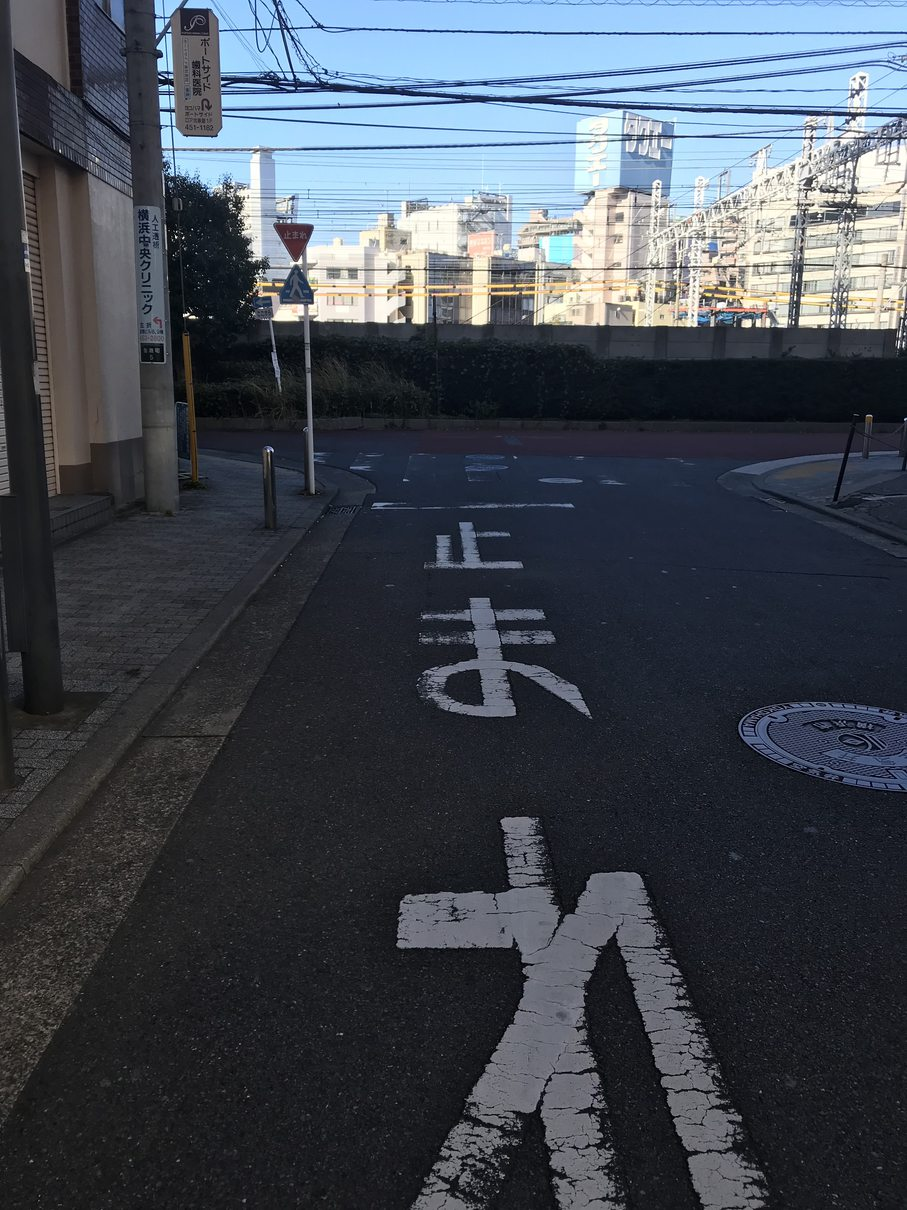stop_sign: (272, 217, 314, 262)
